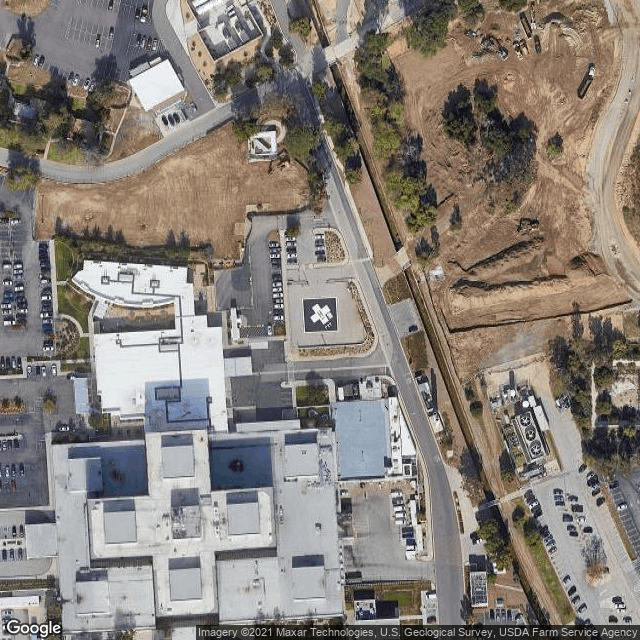Helipad: (297, 295, 340, 335)
